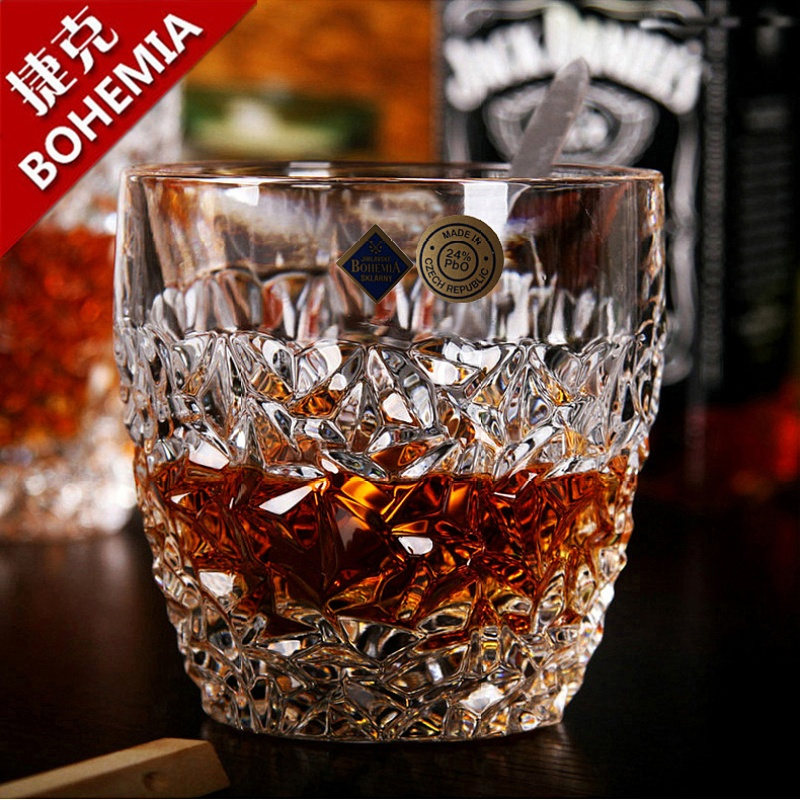whiskey: (114, 163, 670, 727)
